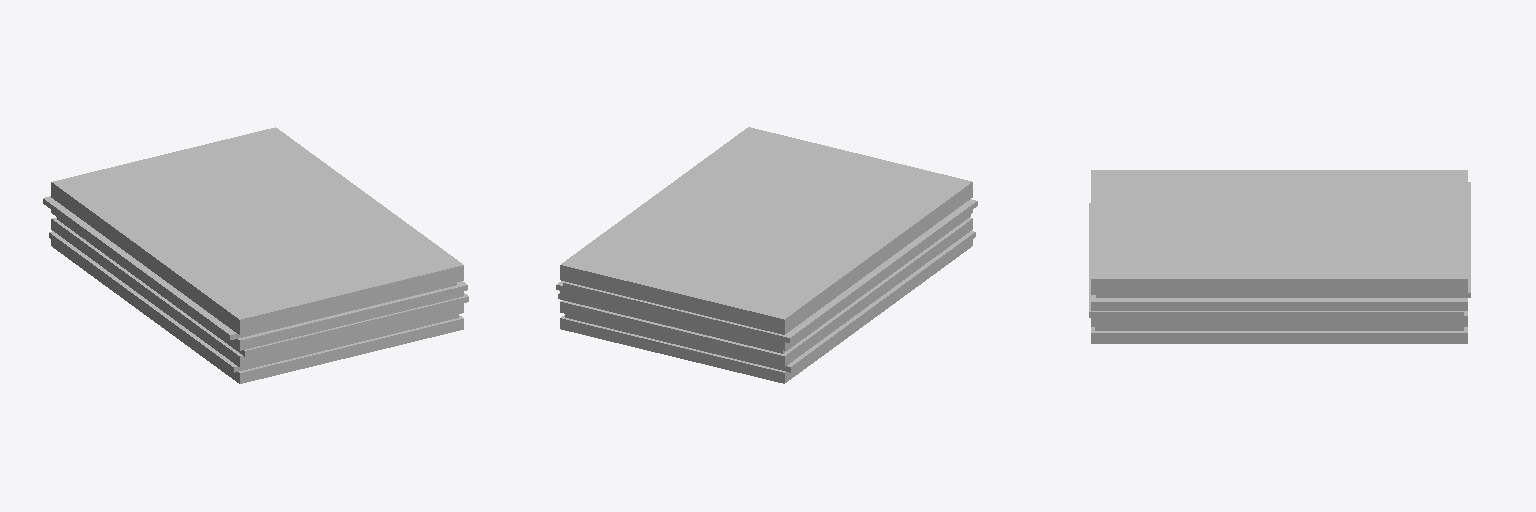
Rendered from pappers_l.obj.
3 views of the same model, side by side, from view 1: azimuth 30°, elevation 25°; view 2: azimuth 150°, elevation 25°; view 3: azimuth 270°, elevation 25° (orthographic).
Parts seen in each view (by area): view 1: pappers_l; view 2: pappers_l; view 3: pappers_l.
Part boxes in pixels (bbox=[...]): pappers_l: bbox=[43, 127, 468, 383]; pappers_l: bbox=[556, 127, 977, 383]; pappers_l: bbox=[1089, 170, 1470, 343].
Bounding box in the file's own units: 0.3018 × 0.0789 × 0.4252.